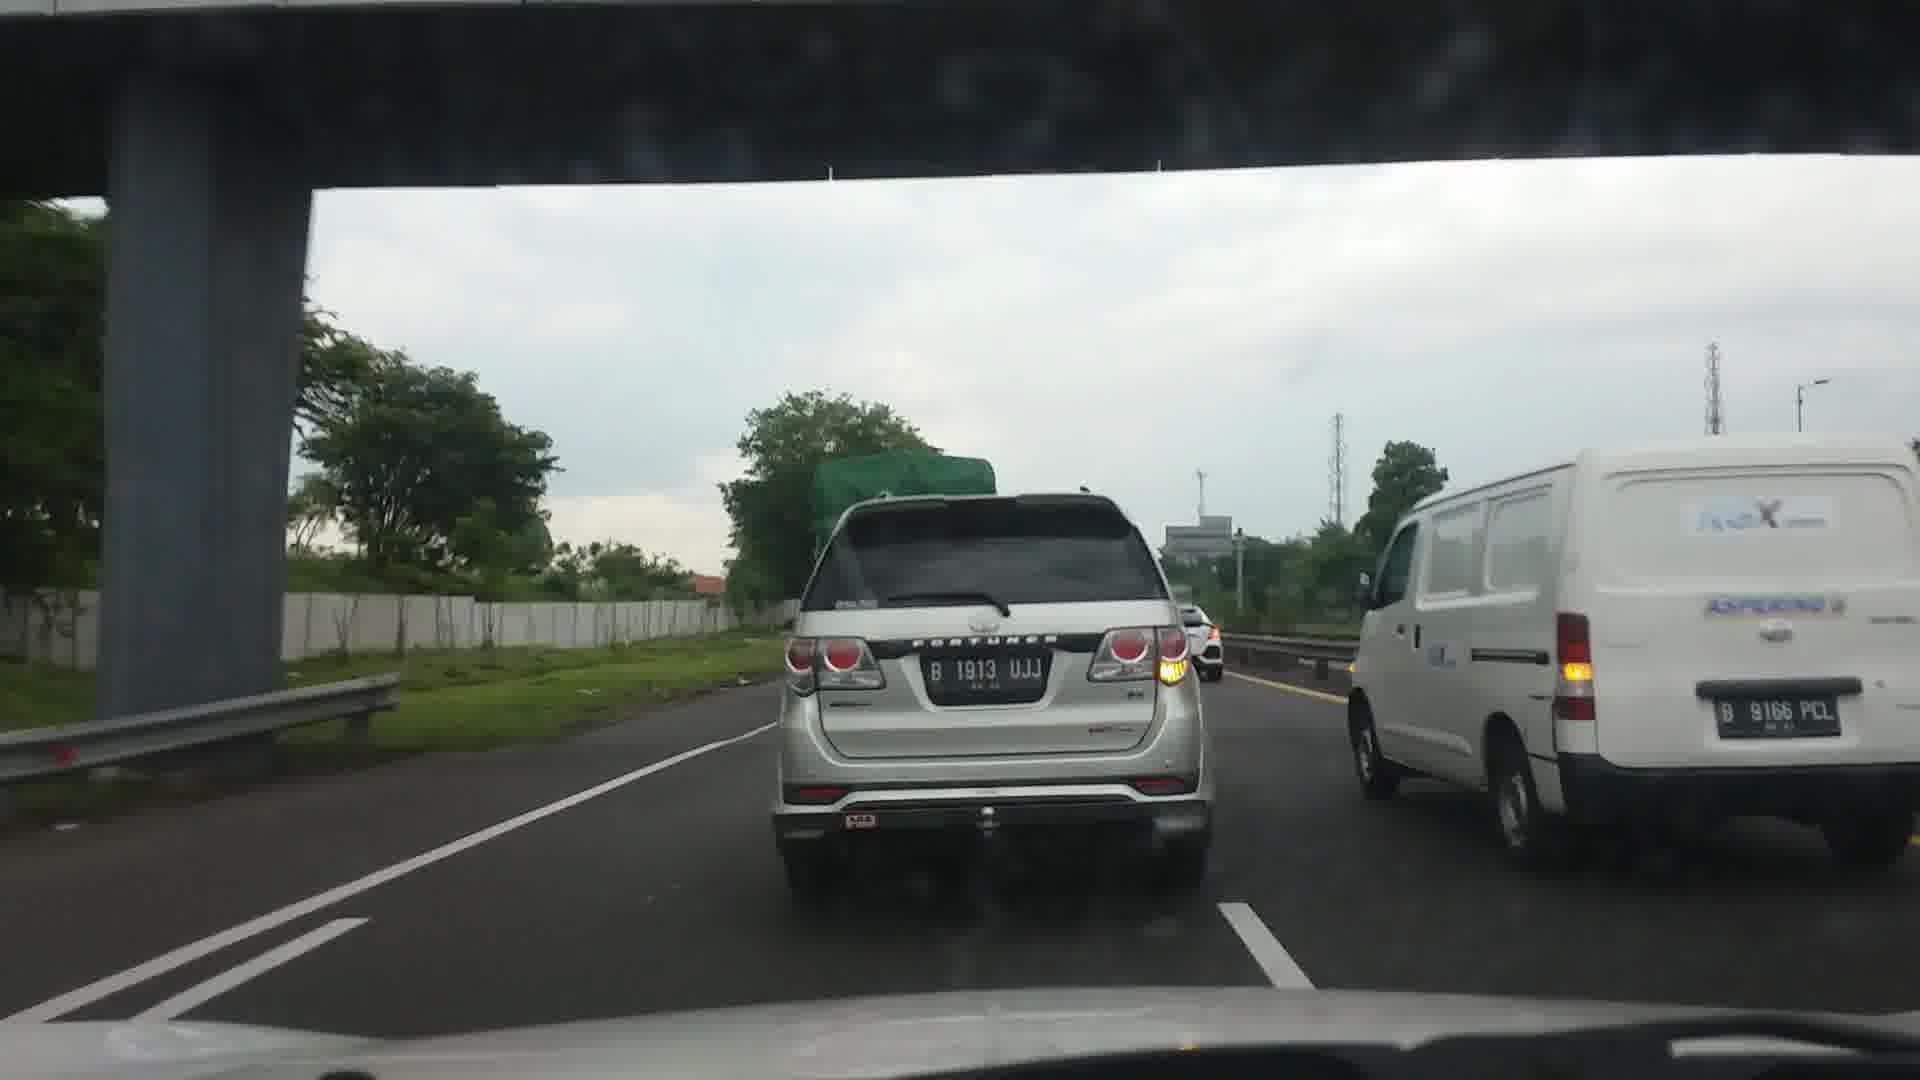plate_positive: (1716, 694, 1841, 737), (926, 653, 1044, 691)
